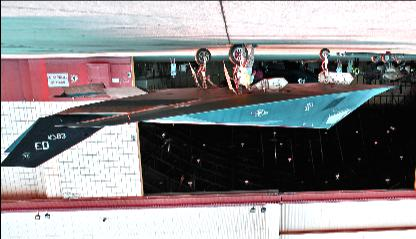E7: (1, 42, 399, 168)
F14: (358, 60, 414, 94)
